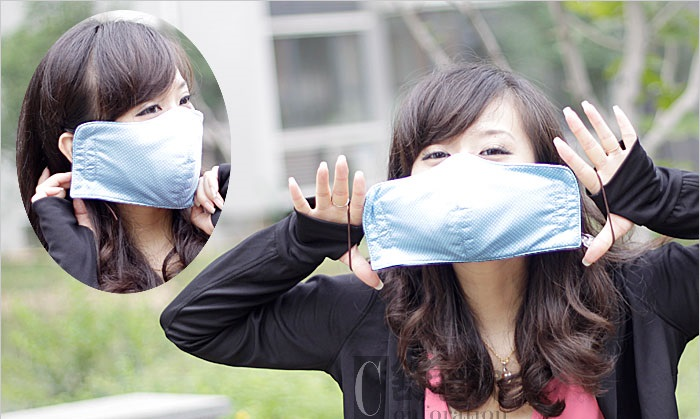face_mask: (414, 102, 528, 254), (104, 61, 200, 210)
